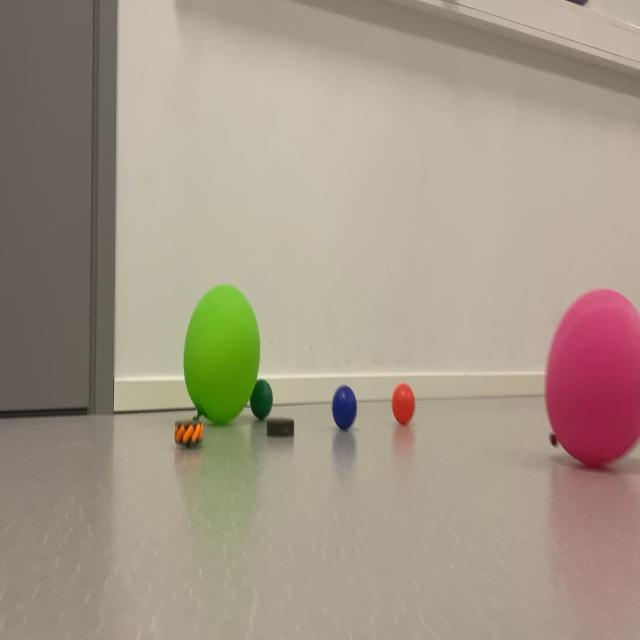7: (382, 376, 418, 436)
green ball: (327, 380, 360, 443)
red ball: (249, 371, 280, 420)
